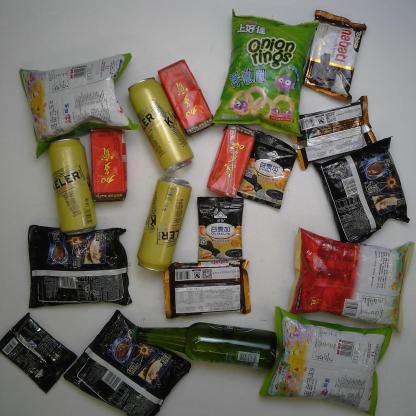Alcohol: (127, 319, 281, 372), (126, 73, 198, 175), (135, 172, 194, 274), (42, 136, 99, 238)
Dessert: (287, 94, 380, 174), (300, 8, 368, 107), (159, 255, 256, 320)
Drink: (154, 56, 218, 139), (204, 118, 259, 200), (85, 124, 129, 204)
Instant Drink: (0, 310, 81, 396), (235, 129, 300, 211), (194, 193, 246, 269)
Instant Noodles: (58, 308, 193, 416), (311, 133, 412, 248), (20, 219, 136, 310)
Puffed Food: (257, 302, 397, 416), (209, 6, 323, 141), (16, 50, 146, 161), (284, 225, 415, 335)
